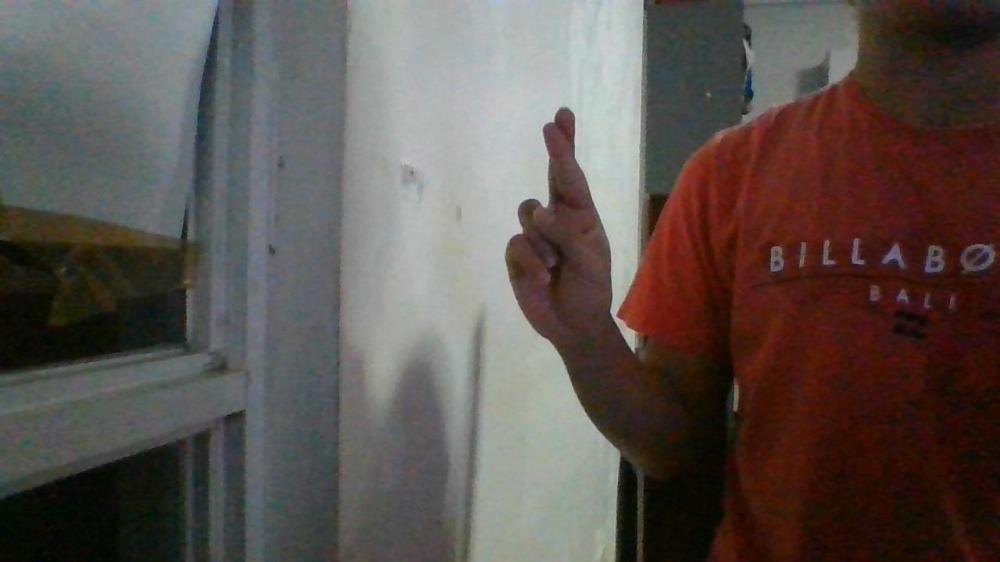r: (502, 104, 613, 345)
